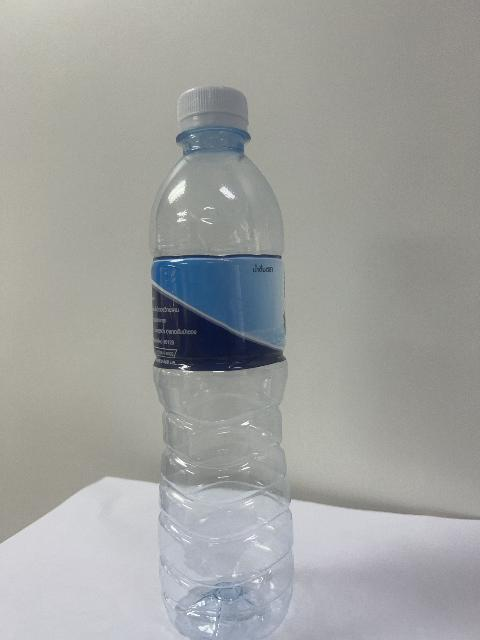bottle: (150, 87, 293, 639)
